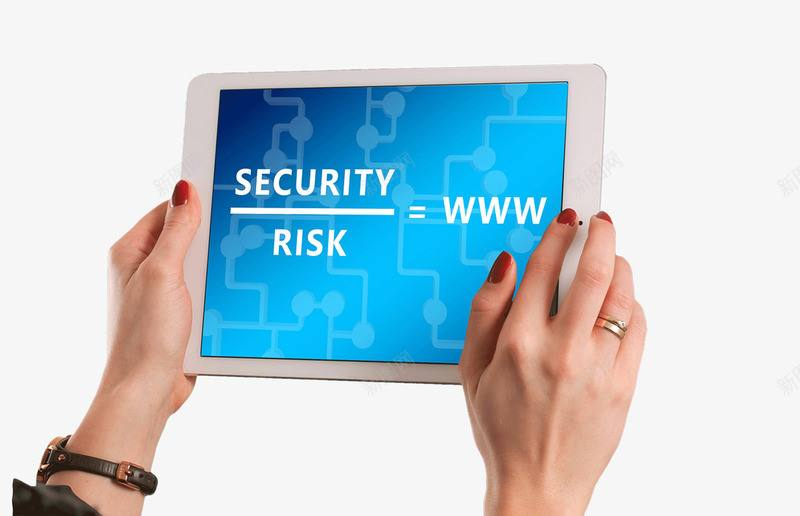pad: (95, 52, 652, 476)
